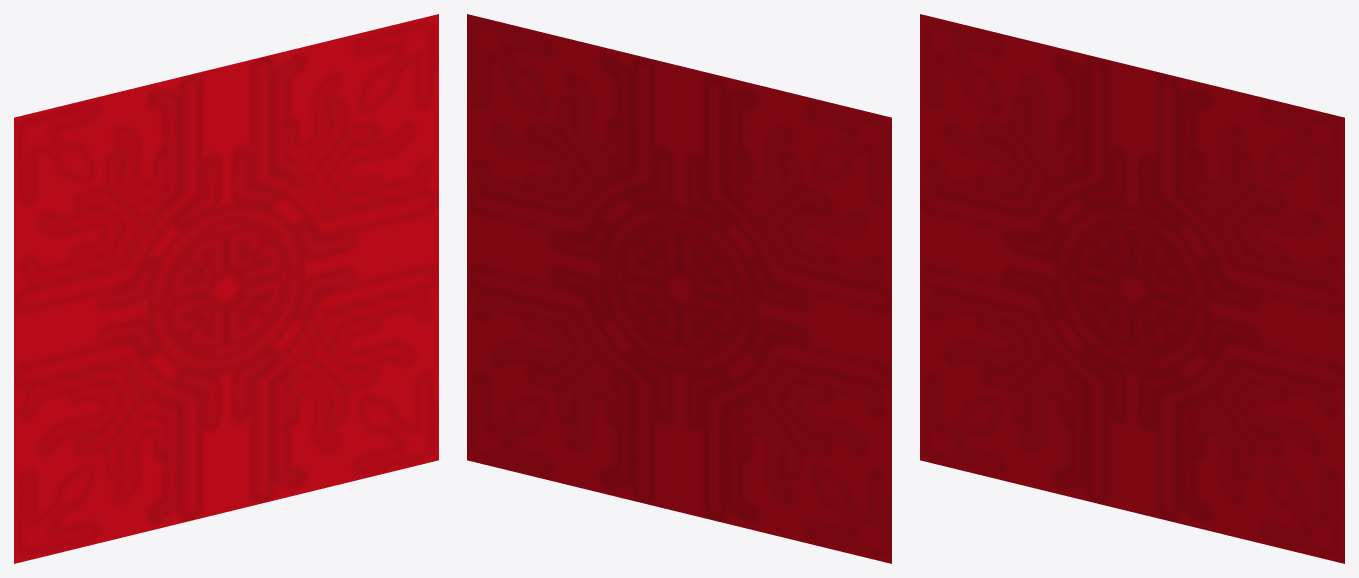
The model's file is f_wall.fbx.
The picture shows the model from 3 angles, left to right: view 1: azimuth 30°, elevation 25°; view 2: azimuth 150°, elevation 25°; view 3: azimuth 330°, elevation 25°; orthographic projection.
Visible parts, largest first — view 1: f_wallbase, f_wall40, f_wall52, f_wall65, f_wall55, f_wall60, f_wall56, f_wall69, f_wall68, f_wall58, f_wall51, f_wall66 (+23 smaller); view 2: f_wallbase, f_wall40, f_wall52, f_wall65, f_wall55, f_wall60, f_wall56, f_wall69, f_wall68, f_wall58, f_wall51, f_wall66 (+23 smaller); view 3: f_wallbase, f_wall40, f_wall52, f_wall65, f_wall55, f_wall60, f_wall56, f_wall69, f_wall68, f_wall51, f_wall58, f_wall66 (+23 smaller).
Part boxes in pixels (<box>): f_wallbase: <box>14,14,438,563</box>; f_wall40: <box>285,306,383,392</box>; f_wall52: <box>93,185,157,272</box>; f_wall65: <box>273,114,356,194</box>; f_wall55: <box>66,363,130,464</box>; f_wall60: <box>232,351,280,455</box>; f_wall56: <box>130,344,195,450</box>; f_wall69: <box>267,359,338,440</box>; f_wall68: <box>305,268,371,326</box>; f_wall58: <box>170,378,226,440</box>; f_wall51: <box>138,173,202,254</box>; f_wall66: <box>233,141,286,221</box>; f_wallbase: <box>467,14,891,563</box>; f_wall40: <box>522,306,620,392</box>; f_wall52: <box>748,185,812,272</box>; f_wall65: <box>549,114,632,194</box>; f_wall55: <box>775,363,839,464</box>; f_wall60: <box>625,351,673,455</box>; f_wall56: <box>710,344,775,450</box>; f_wall69: <box>567,359,638,440</box>; f_wall68: <box>534,268,600,326</box>; f_wall58: <box>679,378,735,440</box>; f_wall51: <box>703,173,767,254</box>; f_wall66: <box>619,141,672,221</box>; f_wallbase: <box>920,14,1344,563</box>; f_wall40: <box>1191,335,1289,454</box>; f_wall52: <box>999,122,1063,238</box>; f_wall65: <box>1179,149,1261,229</box>; f_wall55: <box>972,315,1036,390</box>; f_wall60: <box>1138,364,1186,461</box>; f_wall56: <box>1036,323,1101,418</box>; f_wall69: <box>1173,401,1243,472</box>; f_wall68: <box>1211,316,1277,389</box>; f_wall51: <box>1044,145,1108,234</box>; f_wall58: <box>1076,366,1132,440</box>; f_wall66: <box>1139,163,1192,234</box>.
Bounding box in the file's own units: 1058 × 1062 × 0.000366.
1 material, 1 textured.
